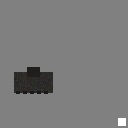supply_truck: (14, 72, 53, 93)
